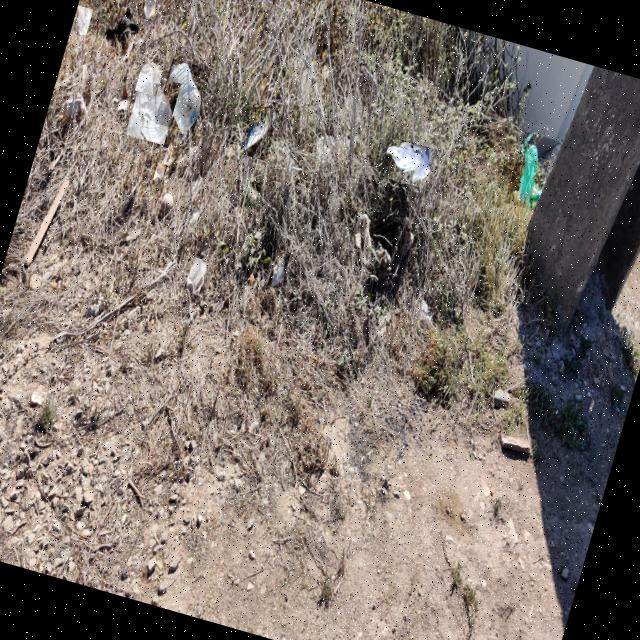Clear plastic bottle: (136, 75, 172, 143), (166, 62, 200, 132)
Disposable plastic cup: (186, 258, 206, 294)
Other plastic: (152, 162, 165, 187)
Plastic film: (355, 212, 391, 270), (518, 133, 541, 209), (139, 63, 161, 94), (77, 6, 91, 36), (143, 0, 154, 20)
Single-use carrier bag: (385, 142, 430, 184)
Unlabeled litter: (240, 111, 279, 153), (105, 7, 139, 41), (271, 251, 284, 287), (243, 180, 258, 208)
